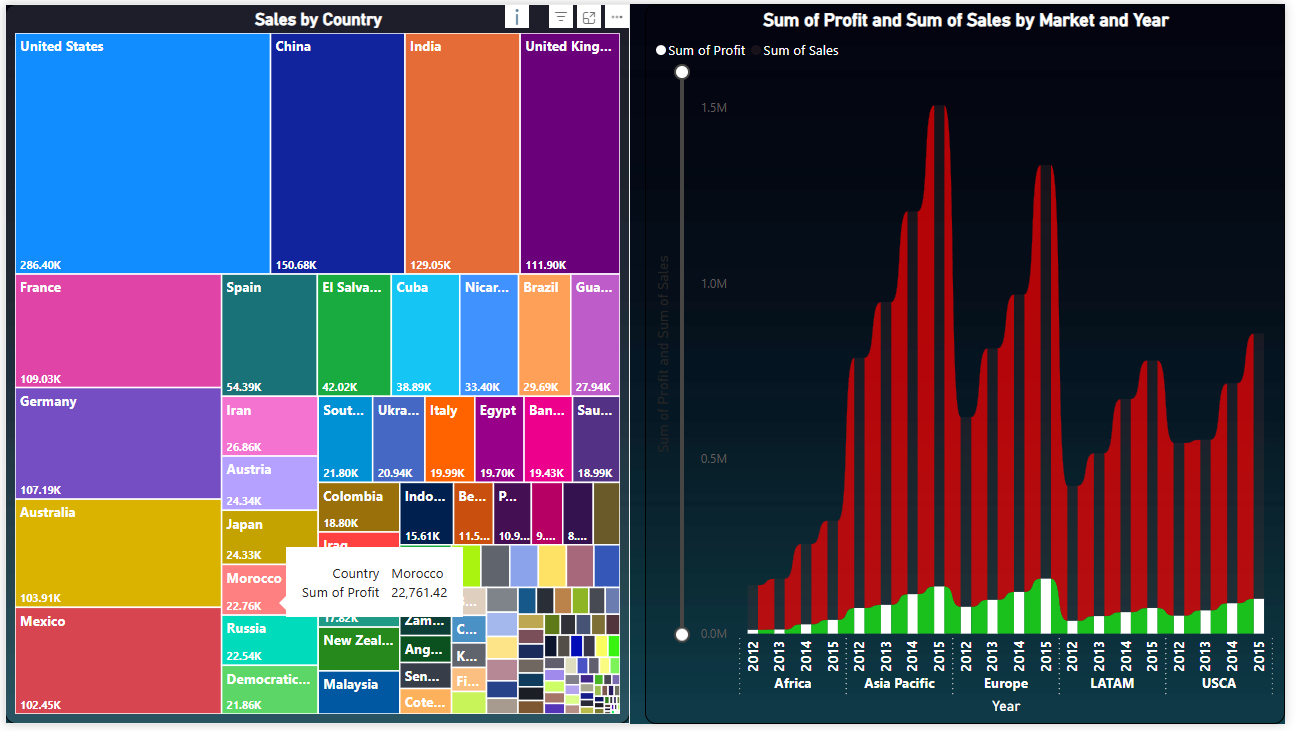

This screenshot's page, from the dashboard's own definition file:
{"tool":"powerbi","page":{"name":"Comparison","canvas":[1280,720],"ordinal":3},"visuals":[{"type":"treemap","title":"Sales by Country","fields":{"Group":["Orders.Country"],"Values":["Sum(Orders.Profit)"]},"box":[0,0,625,720],"z":0},{"type":"ribbonChart","fields":{"Category":["Orders.Market","Orders.Order Date.Variation.Date Hierarchy.Year"],"Y":["Sum(Orders.Profit)","Sum(Orders.Sales)"]},"box":[640,0,640,720],"z":1}]}

Visuals, with their boxes in screenshot pixels (x1, y1, x2, y2), scaled from the page's 1280x720 canvas onto the 1300x731 screenshot:
"Sales by Country" treemap: [0,0,635,730]
ribbonChart - Orders.Market x Orders.Order Date.Variation.Date Hierarchy.Year: [650,0,1299,730]
